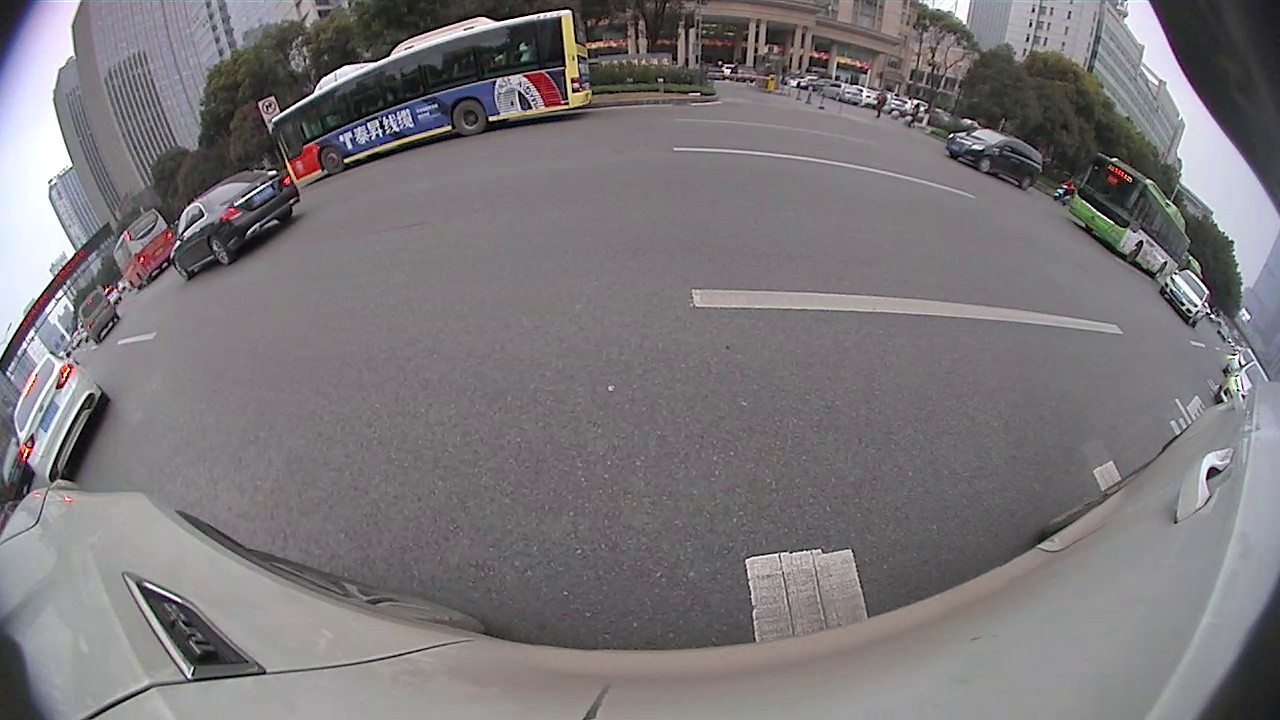bus: (270, 7, 594, 192), (1066, 151, 1193, 283), (111, 208, 177, 293)
car: (169, 168, 302, 283), (11, 350, 112, 486), (945, 126, 1045, 191), (1158, 267, 1212, 328), (1213, 359, 1272, 405), (76, 286, 122, 345), (0, 437, 38, 491), (1223, 346, 1258, 377)
front: (317, 143, 349, 176), (172, 255, 193, 283), (1121, 243, 1143, 267), (973, 154, 993, 174)
person: (875, 92, 885, 120)
rear: (450, 95, 492, 137), (207, 230, 235, 267), (277, 203, 296, 227), (93, 389, 113, 411), (1151, 261, 1170, 282), (1016, 173, 1032, 191)
rider: (1053, 179, 1074, 206)
